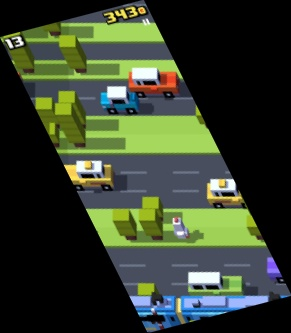car: (128, 65, 181, 98), (186, 270, 245, 299), (60, 160, 114, 189), (206, 178, 251, 209), (99, 86, 140, 115), (264, 256, 291, 285), (136, 283, 162, 312)
duck: (170, 217, 191, 241)
light off: (145, 307, 169, 333)
train: (123, 294, 291, 331), (244, 214, 268, 243)
tree: (3, 27, 36, 74), (55, 104, 85, 147), (35, 96, 63, 137), (58, 34, 87, 73), (110, 206, 138, 240), (58, 89, 85, 124), (137, 208, 164, 240), (192, 97, 218, 130), (41, 5, 63, 37), (141, 196, 165, 220), (38, 122, 60, 147)
